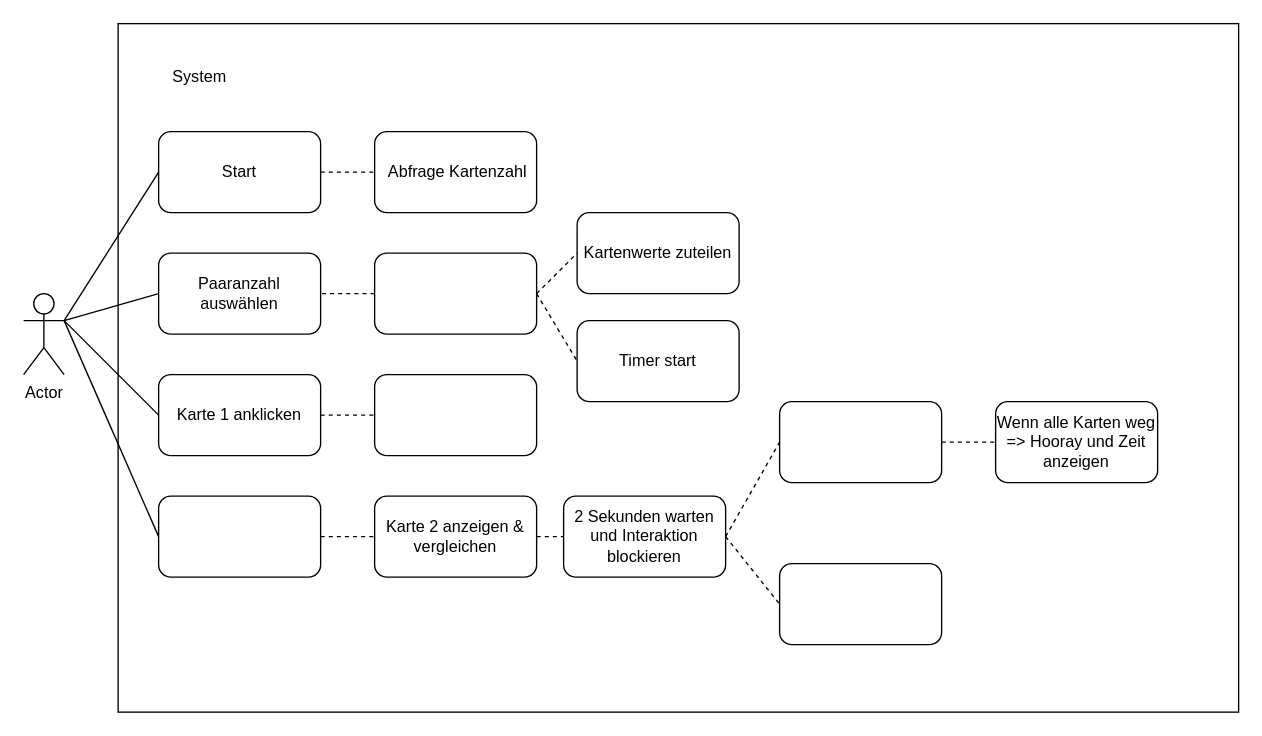
Image size: 1262x736. Some labels were removed from this diagram. Each missing label, with the centre of its shape:
"Falls Karten gleich, beide weg" goes at point (860, 441).
"Falls Karten ungleich, beide Karten umdrehen" goes at point (860, 603).
"Feld wird vorbereitet" goes at point (455, 293).
"Karte 1 anzeigen" goes at point (455, 414).
"Karte 2 anklicken" goes at point (239, 536).
